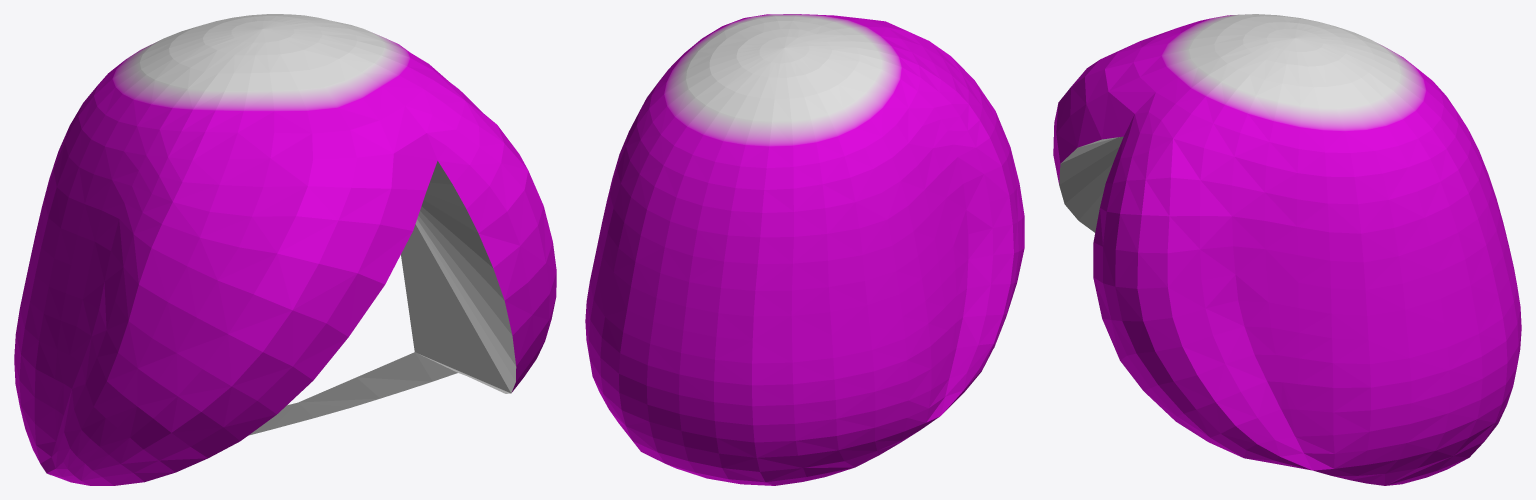
The picture shows the model from 3 angles, left to right: view 1: azimuth 30°, elevation 25°; view 2: azimuth 150°, elevation 25°; view 3: azimuth 270°, elevation 25°; orthographic projection. The views are drawn at different scales.
Parts seen in each view (by area): view 1: shape; view 2: shape; view 3: shape.
Part boxes in pixels (bbox=[...]): shape: bbox=[14, 14, 556, 485]; shape: bbox=[585, 14, 1024, 485]; shape: bbox=[1053, 14, 1521, 485].
Size of the model in its own units: 66.11 by 66.69 by 68.3.
